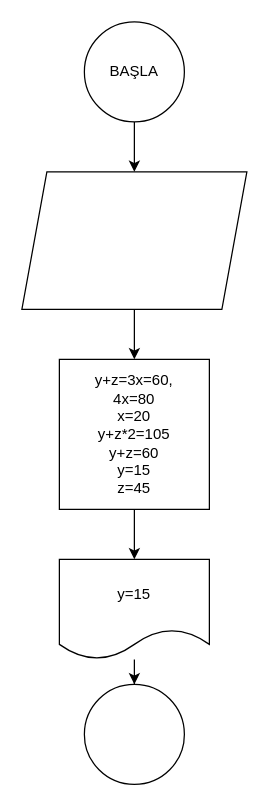
Image size: 269x806. Some labels were removed from this diagram. The shapes that lost their labels are listed below. From the top down, each one's centre as x and y in pixels, then its label:
At point (134, 240): "metin uzunluğu=80 kelime,A harfi=105 tane, 0A=x,1A=y,2A=z x+y+z=80,y+z=3x,".
At point (133, 733): "DUR".
